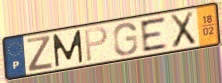E: (138, 15, 170, 54)
G: (112, 21, 139, 57)
M: (51, 29, 85, 69)
P: (83, 25, 109, 64)
X: (168, 9, 197, 50)
Z: (26, 34, 54, 73)
